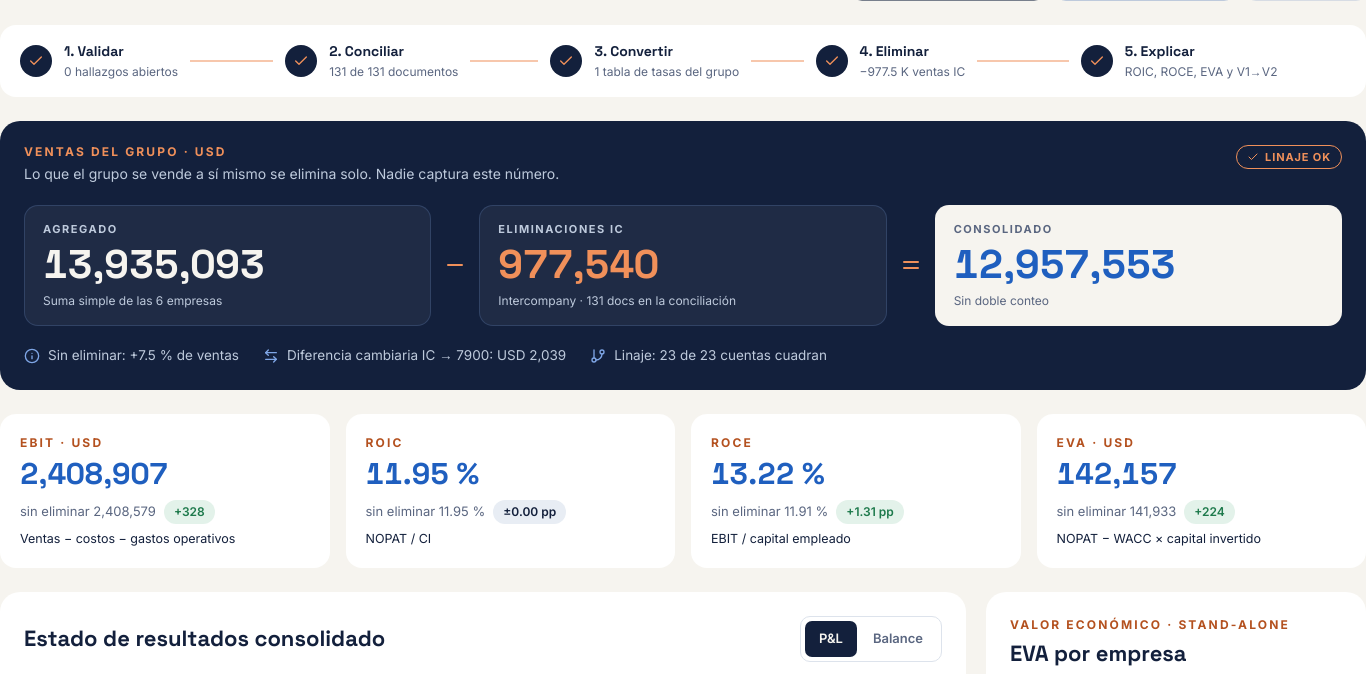
ConsolidationPage › cambia entre P&L y Balance
This screenshot has width=1366, height=674.
Expected: the text "13,935,093" is shown, [43,239,265,290]
Click the button "Balance". click: (898, 639)
box: [859,621,937,657]
(page scrolled)
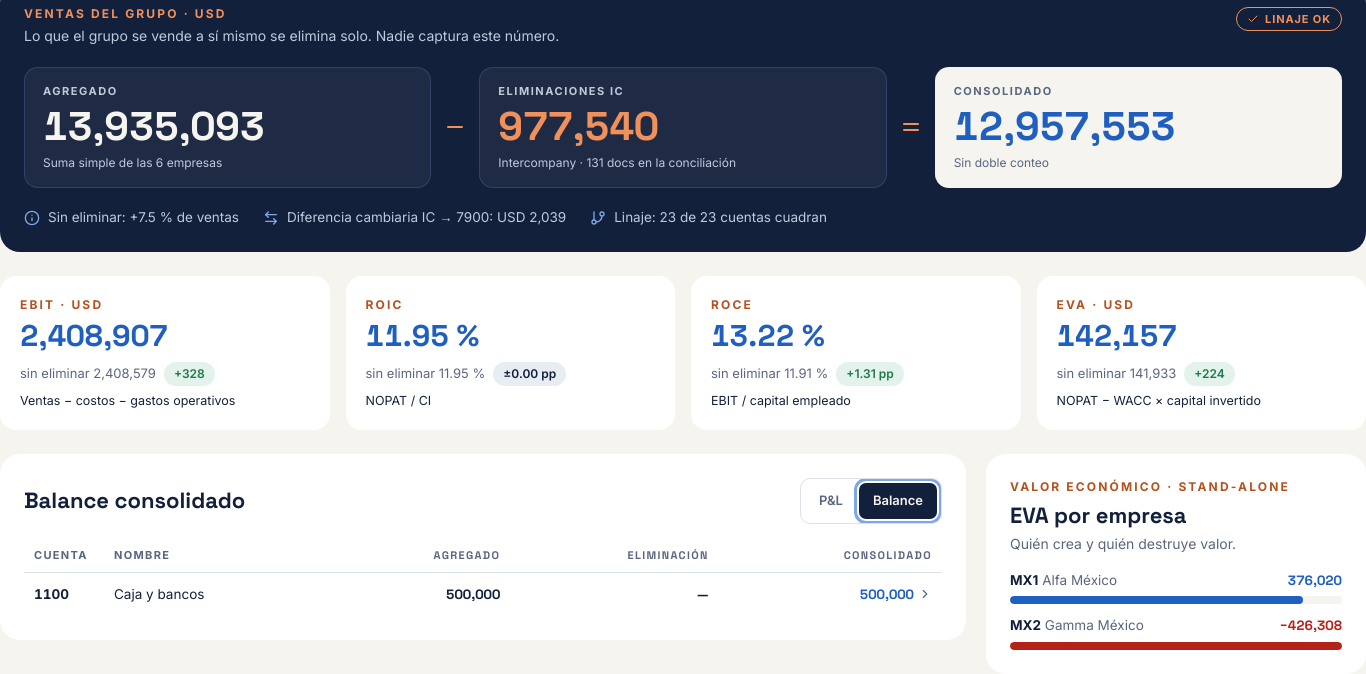
Now the text "Caja y bancos" is shown, box [104,572,331,616]
